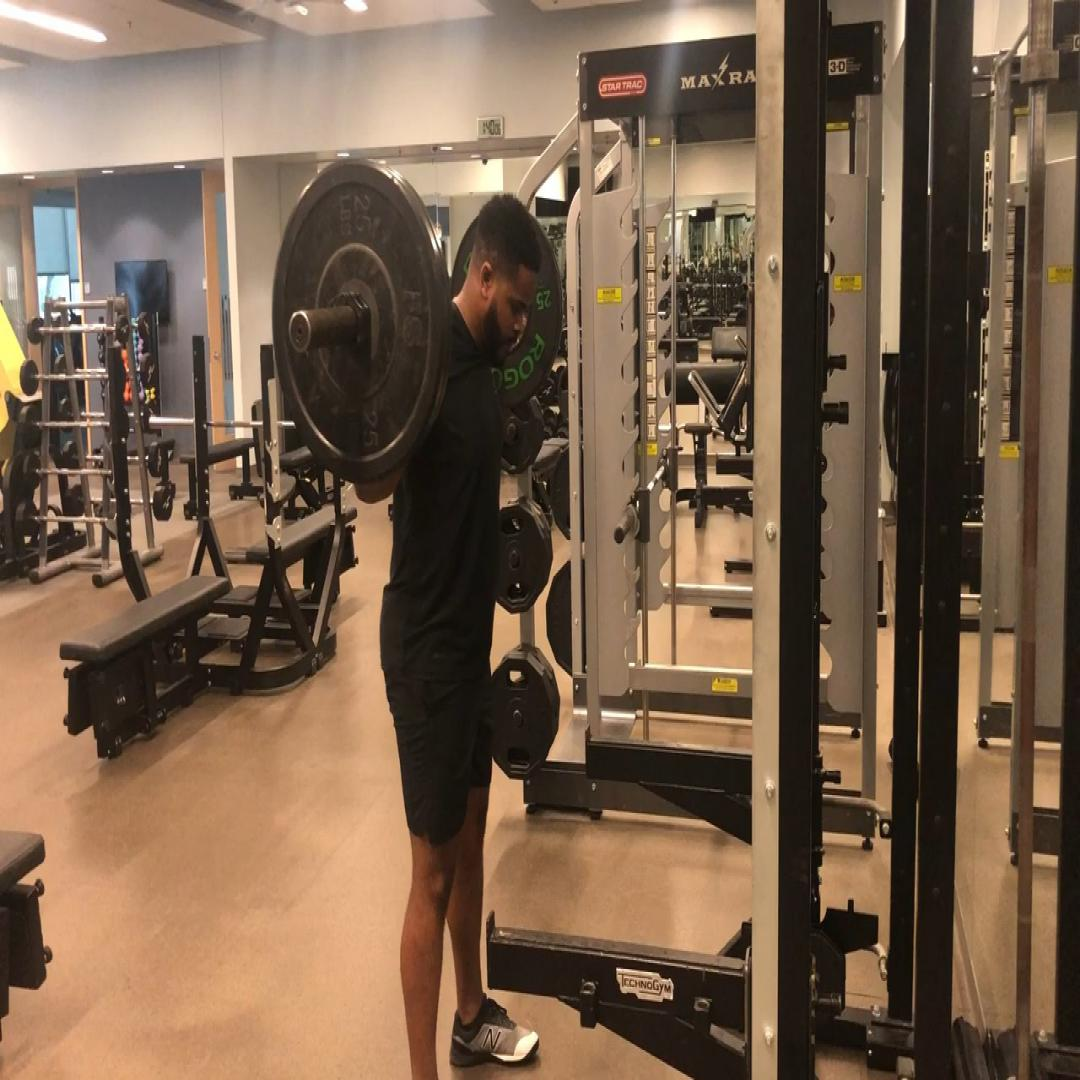Bar: (288, 309, 312, 354)
Barbell: (272, 157, 446, 483)
